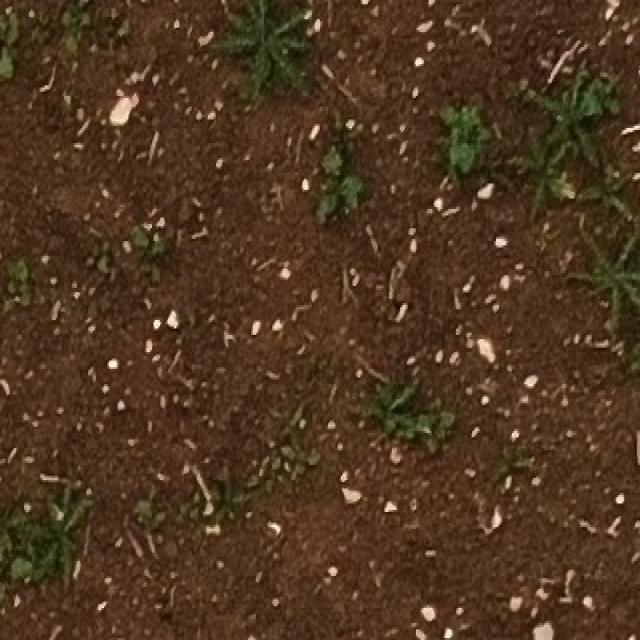cirse: (223, 1, 330, 113), (224, 3, 330, 113), (213, 3, 318, 110), (511, 69, 589, 171), (506, 71, 586, 167), (520, 70, 600, 165), (558, 213, 617, 321), (563, 213, 622, 316), (23, 498, 88, 588), (26, 470, 91, 557), (26, 523, 88, 606), (516, 142, 581, 217), (516, 142, 576, 214), (512, 142, 573, 212), (599, 222, 640, 320), (588, 166, 639, 224), (596, 157, 640, 217), (603, 165, 640, 225)
